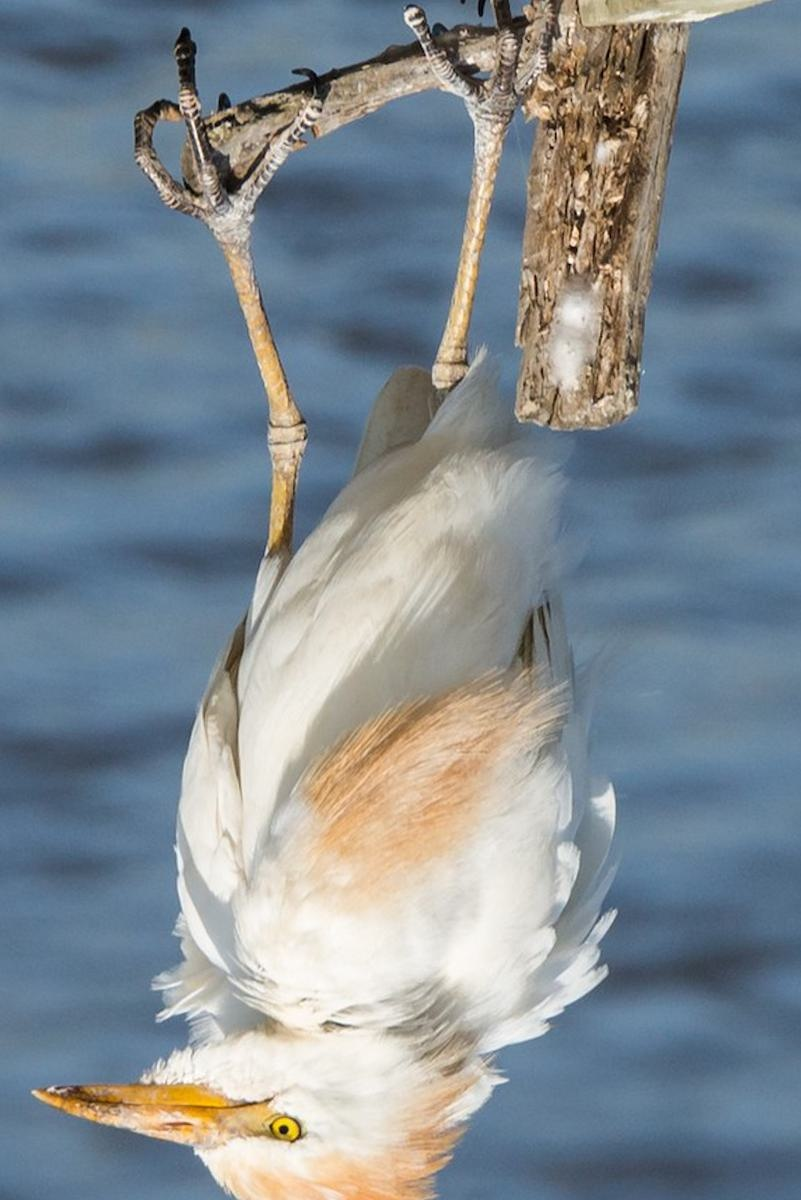egret: (47, 79, 627, 1191)
